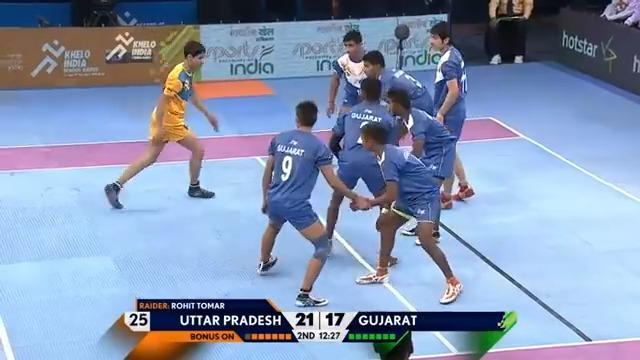Player: (256, 99, 367, 307), (350, 121, 463, 304), (324, 76, 408, 263), (384, 86, 456, 244), (361, 49, 433, 115), (326, 29, 369, 120)
Raider: (103, 39, 219, 209)
referee: (360, 49, 435, 237), (427, 21, 475, 208), (483, 0, 534, 64)
